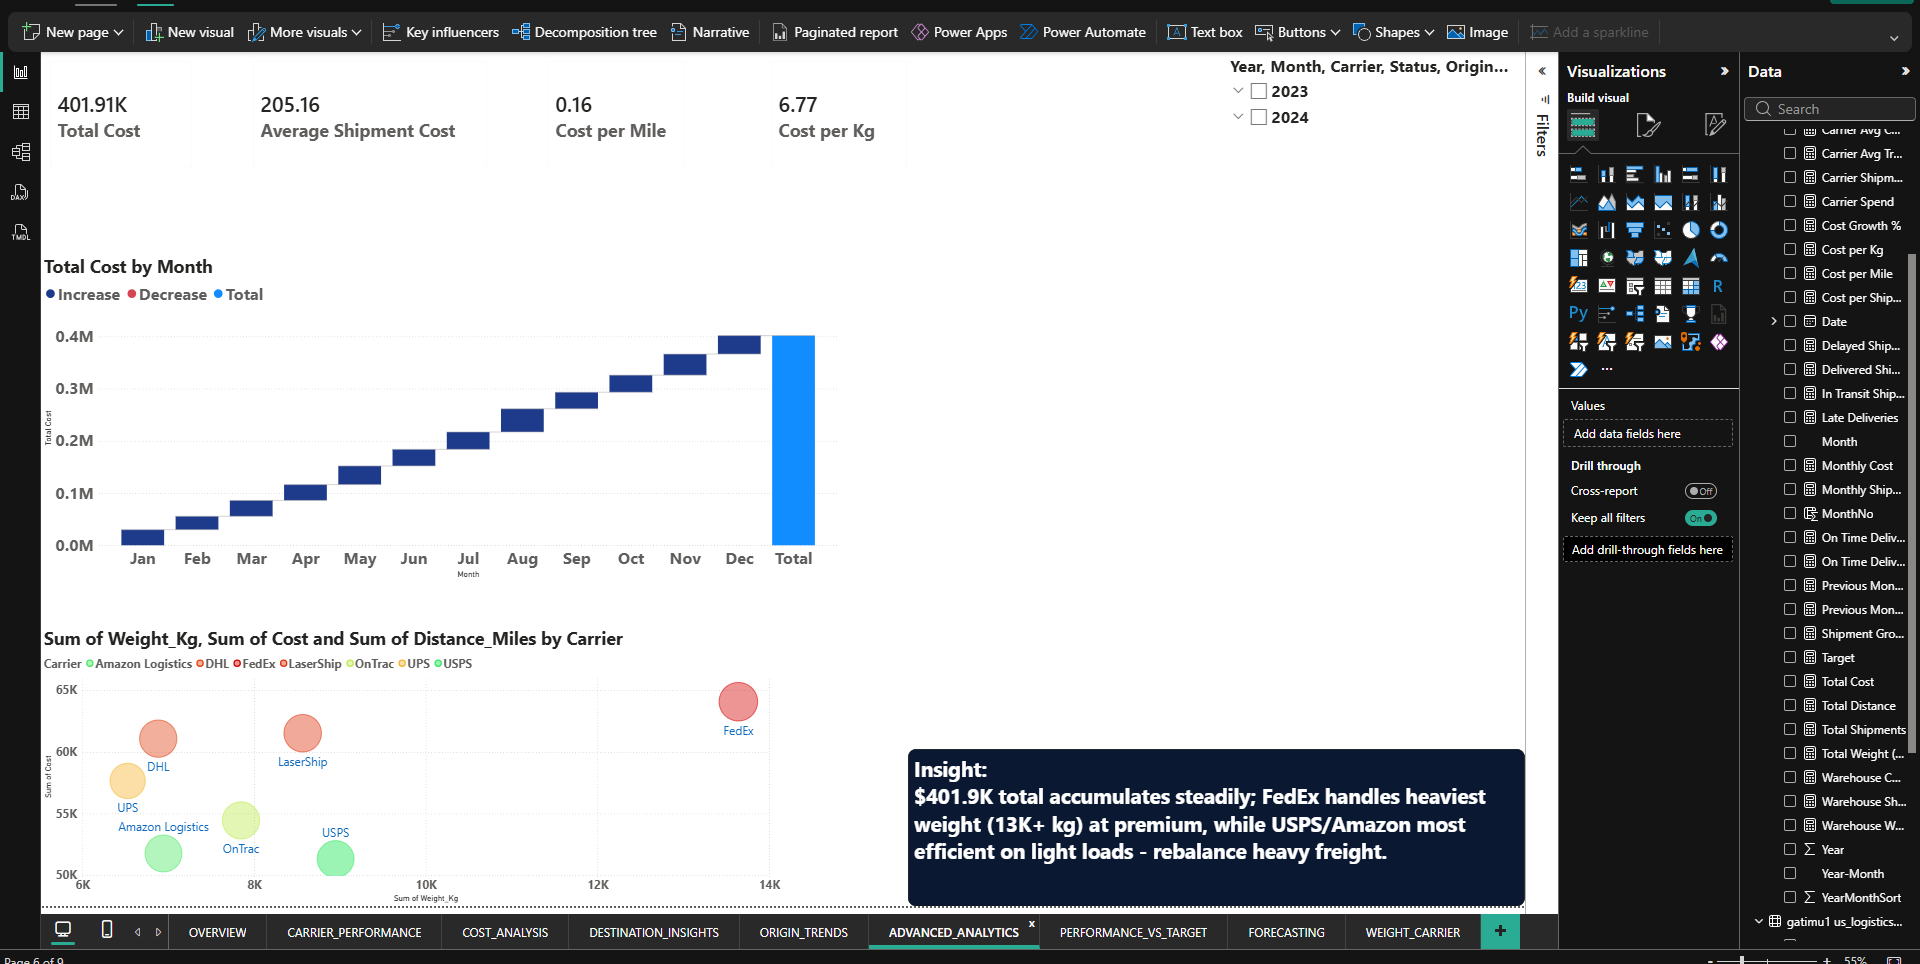

The page's visual inventory and layout, read from the dashboard file:
{"tool":"powerbi","page":{"name":"ADVANCED_ANALYTICS","canvas":[2680,1542],"ordinal":5},"visuals":[{"type":"cardVisual","fields":{"Data":["Calendar.Total Cost"]},"box":[0,0,290.8,227.5],"z":0},{"type":"cardVisual","fields":{"Data":["Calendar.Average Shipment Cost"]},"box":[366.6,0,455.1,227.5],"z":1000},{"type":"cardVisual","fields":{"Data":["Calendar.Cost per Mile"]},"box":[899.4,0,279.9,227.5],"z":2000},{"type":"cardVisual","fields":{"Data":["Calendar.Cost per Kg"]},"box":[1302.1,0,279.9,227.5],"z":3000},{"type":"waterfallChart","fields":{"Category":["Calendar.Month"],"Y":["Calendar.Total Cost"]},"box":[0,364.8,1442.9,592.3],"z":4000},{"type":"scatterChart","fields":{"X":["Sum(gatimu1 us_logistics_shipments.Weight_Kg)"],"Y":["Sum(gatimu1 us_logistics_shipments.Cost)"],"Series":["gatimu1 us_logistics_shipments.Carrier"],"Size":["Sum(gatimu1 us_logistics_shipments.Distance_Miles)"]},"box":[0,1036.6,1340,505.7],"z":5000},{"type":"slicer","fields":{"Values":["Calendar.Year","Calendar.Month","gatimu1 us_logistics_shipments.Carrier","gatimu1 us_logistics_shipments.Status","gatimu1 us_logistics_shipments.Origin_warehouse","gatimu1 us_logistics_shipments.Destination"]},"box":[2134.6,0,545.4,274.5],"z":6000},{"type":"textbox","box":[1565.7,1258.7,1114.3,283.5],"z":7000}]}

Visuals, with their boxes on the page's 2680x1542 design canvas (x1, y1, x2, y2). These are canvas units, not pixel positions in the 1920x964 screenshot, which may show the page scaled, cropped or inside an application window:
cardVisual - Calendar.Total Cost: detection(0, 0, 291, 228)
cardVisual - Calendar.Average Shipment Cost: detection(367, 0, 822, 228)
cardVisual - Calendar.Cost per Mile: detection(899, 0, 1179, 228)
cardVisual - Calendar.Cost per Kg: detection(1302, 0, 1582, 228)
waterfallChart - Calendar.Month x Calendar.Total Cost: detection(0, 365, 1443, 957)
scatterChart - Sum(gatimu1 us_logistics_shipments.Weight_Kg) x Sum(gatimu1 us_logistics_shipments.Cost): detection(0, 1037, 1340, 1542)
slicer - Calendar.Year x Calendar.Month: detection(2135, 0, 2680, 274)
textbox: detection(1566, 1259, 2680, 1542)
